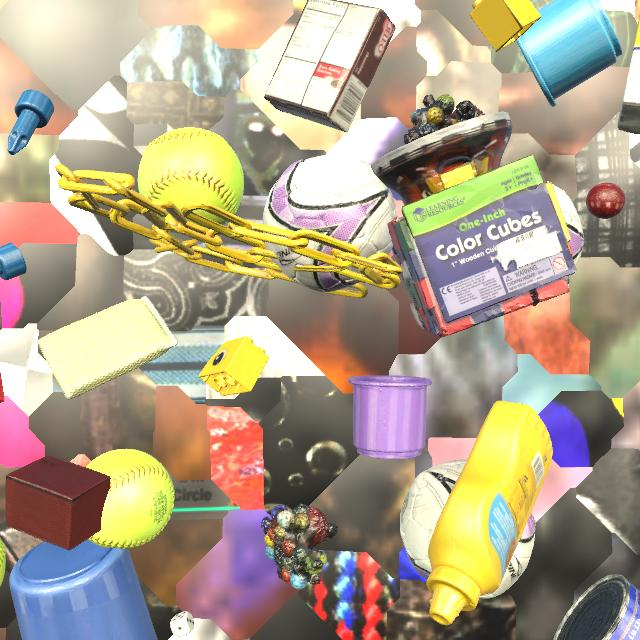ycb_002_master_chef_can: (553, 574, 640, 640)
ycb_003_cracker_box: (0, 371, 5, 403)
ycb_004_sugar_box: (617, 15, 640, 135)
ycb_006_mustard_bottle: (427, 401, 553, 625)
ycb_008_pudding_box: (264, 0, 396, 133)
